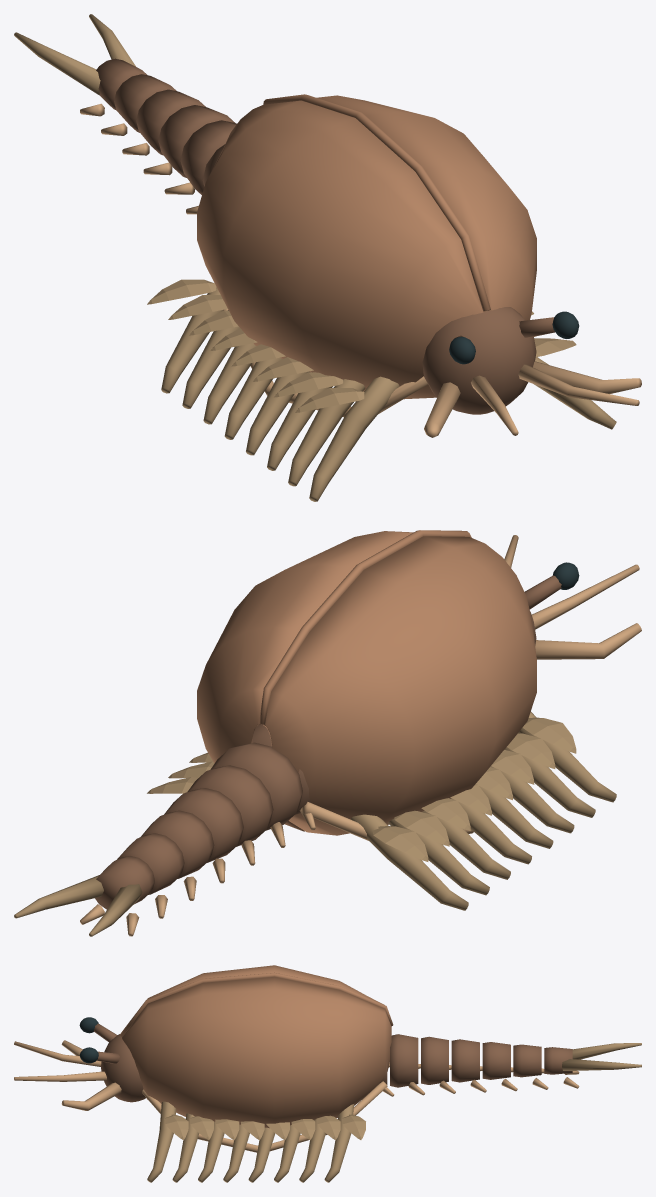
File: canadaspis.glb
The picture shows the model from 3 angles, top to bottom: view 1: azimuth 30°, elevation 25°; view 2: azimuth 150°, elevation 25°; view 3: azimuth 270°, elevation 25°; orthographic projection. The views are drawn at different scales.
Parts seen in each view (by area): view 1: valve--1, walking-legs, valve-1, abdomen, head, outer-branches, hinge, antennulae, sensory, terminal-processes, abdominal-spines, eyes (+1 smaller); view 2: valve--1, abdomen, valve-1, walking-legs, outer-branches, hinge, terminal-processes, antennulae, abdominal-spines, sensory, rims, eye-stalks; view 3: valve-1, abdomen, walking-legs, outer-branches, head, hinge, valve--1, terminal-processes, sensory, rims, abdominal-spines, antennulae (+2 smaller).
Boxes of the visible parts, left/top/right/bottom form: valve--1: left=197, top=100, right=485, bottom=399; walking-legs: left=161, top=287, right=616, bottom=501; valve-1: left=316, top=95, right=536, bottom=320; abdomen: left=96, top=58, right=236, bottom=194; head: left=422, top=307, right=536, bottom=414; outer-branches: left=147, top=279, right=576, bottom=412; hinge: left=263, top=94, right=490, bottom=311; antennulae: left=424, top=361, right=641, bottom=437; sensory: left=471, top=364, right=639, bottom=435; terminal-processes: left=14, top=14, right=135, bottom=95; abdominal-spines: left=80, top=103, right=198, bottom=214; eyes: left=449, top=311, right=579, bottom=364; valve--1: left=263, top=536, right=536, bottom=835; abdomen: left=95, top=724, right=311, bottom=909; valve-1: left=197, top=531, right=413, bottom=831; walking-legs: left=350, top=711, right=616, bottom=910; outer-branches: left=147, top=717, right=576, bottom=861; hinge: left=259, top=530, right=471, bottom=724; terminal-processes: left=14, top=875, right=142, bottom=936; antennulae: left=535, top=623, right=641, bottom=659; abdominal-spines: left=80, top=810, right=315, bottom=936; sensory: left=504, top=535, right=639, bottom=629; rims: left=300, top=802, right=473, bottom=840; eye-stalks: left=524, top=575, right=561, bottom=609; valve-1: left=122, top=977, right=391, bottom=1128; abdomen: left=379, top=1034, right=572, bottom=1087; walking-legs: left=147, top=1101, right=354, bottom=1182; outer-branches: left=164, top=1114, right=365, bottom=1140; head: left=101, top=1034, right=145, bottom=1102; hinge: left=120, top=972, right=393, bottom=1036; valve--1: left=147, top=965, right=384, bottom=1004; terminal-processes: left=562, top=1043, right=641, bottom=1070; sensory: left=14, top=1041, right=106, bottom=1081; rims: left=142, top=1081, right=387, bottom=1152; abdominal-spines: left=383, top=1063, right=579, bottom=1096; antennulae: left=61, top=1040, right=121, bottom=1110.
Size of the model in its own units: 0.0327 by 0.0282 by 0.0966.
